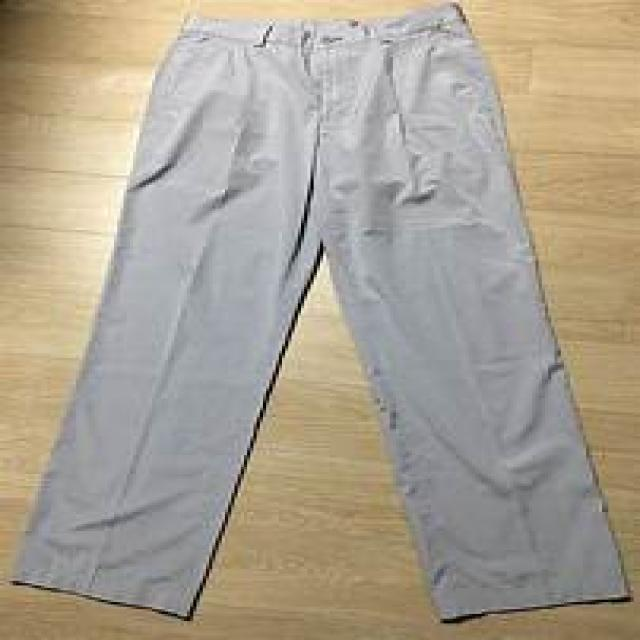long-pants: (9, 0, 627, 623)
